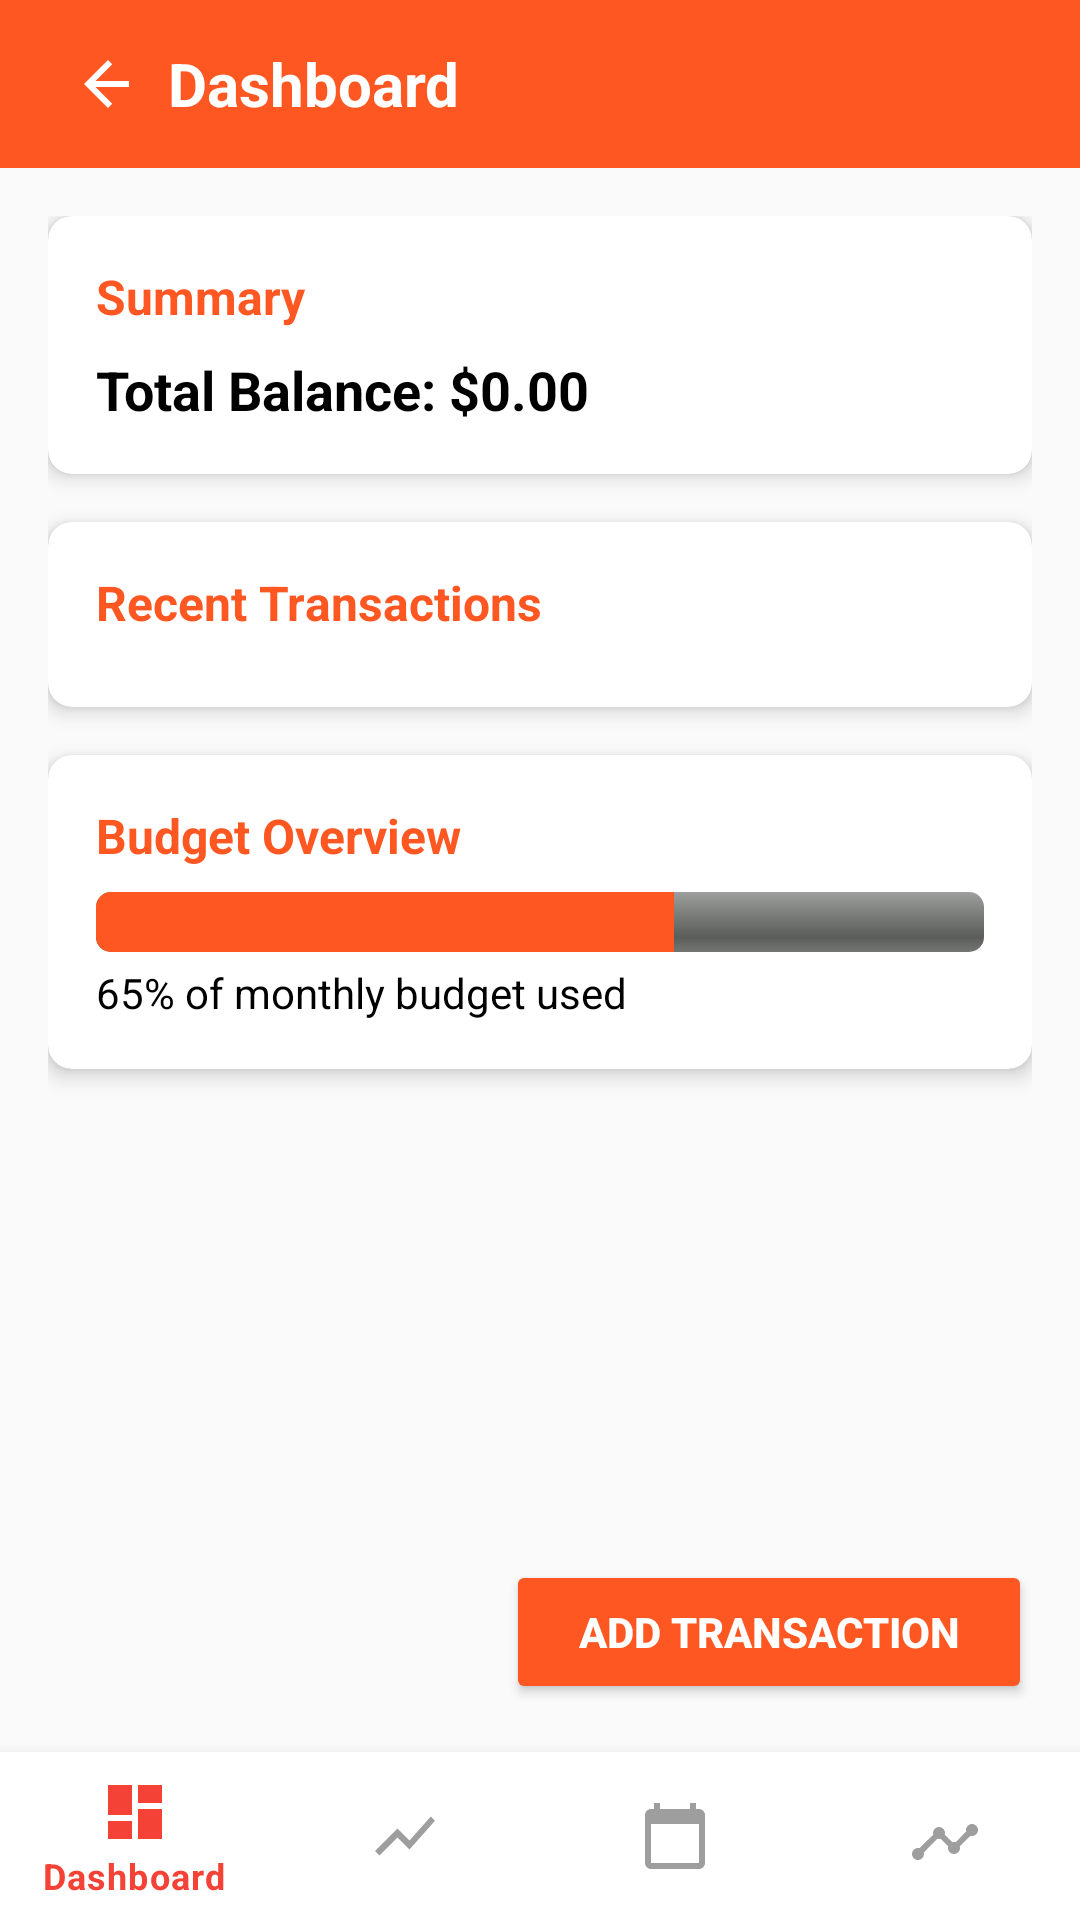

Where icons sit on this 1080x1920 app screen, as (x1, y1, x2, y2):
Back Button: (84, 60, 129, 108)
